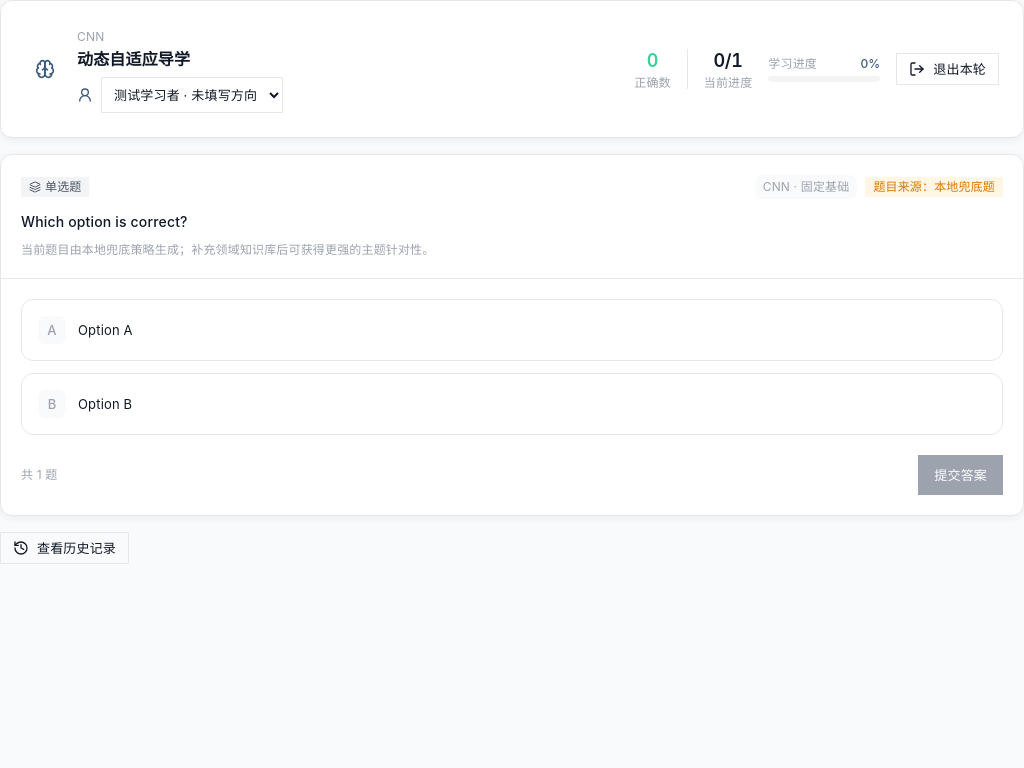
Test: AdaptiveGuidance page › deletes a single history record and keeps the history panel bounded
Click the button "查看历史记录": [64, 548] box [0, 532, 129, 564]
(page scrolled)
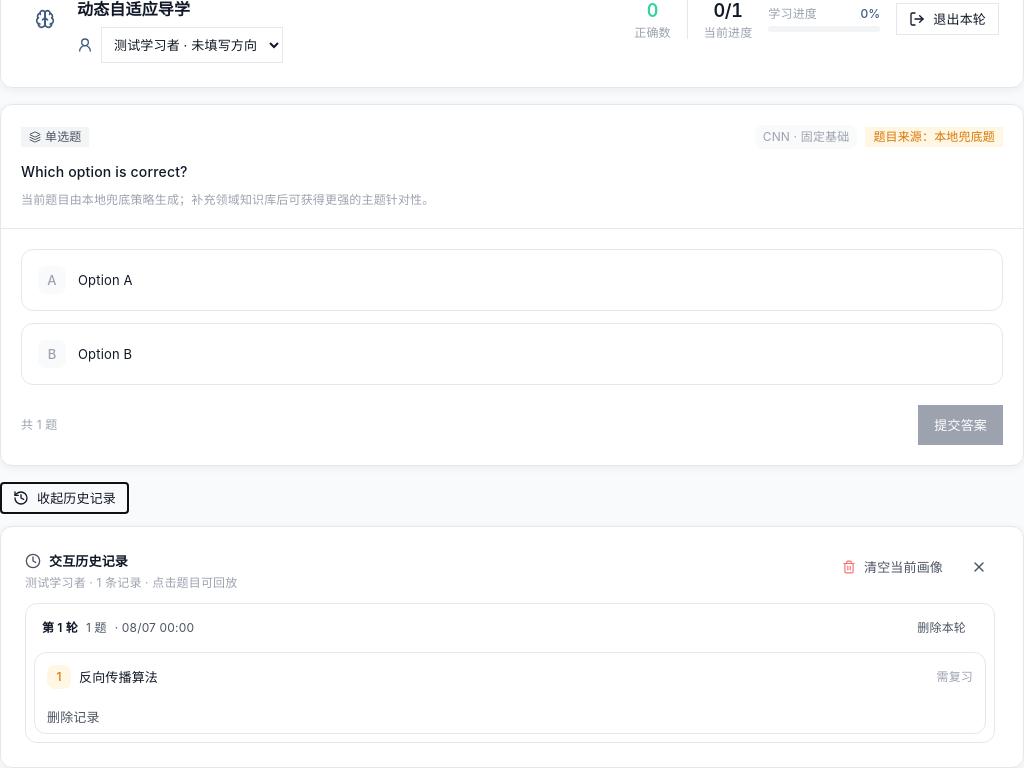
Expected: the text "第 1 轮" is shown, [42, 620, 78, 636]
Expected: the element with class "max-h-" is shown, [25, 603, 999, 743]
Click the button with aria-label "删除第1题记录": [73, 717] box [35, 701, 112, 733]
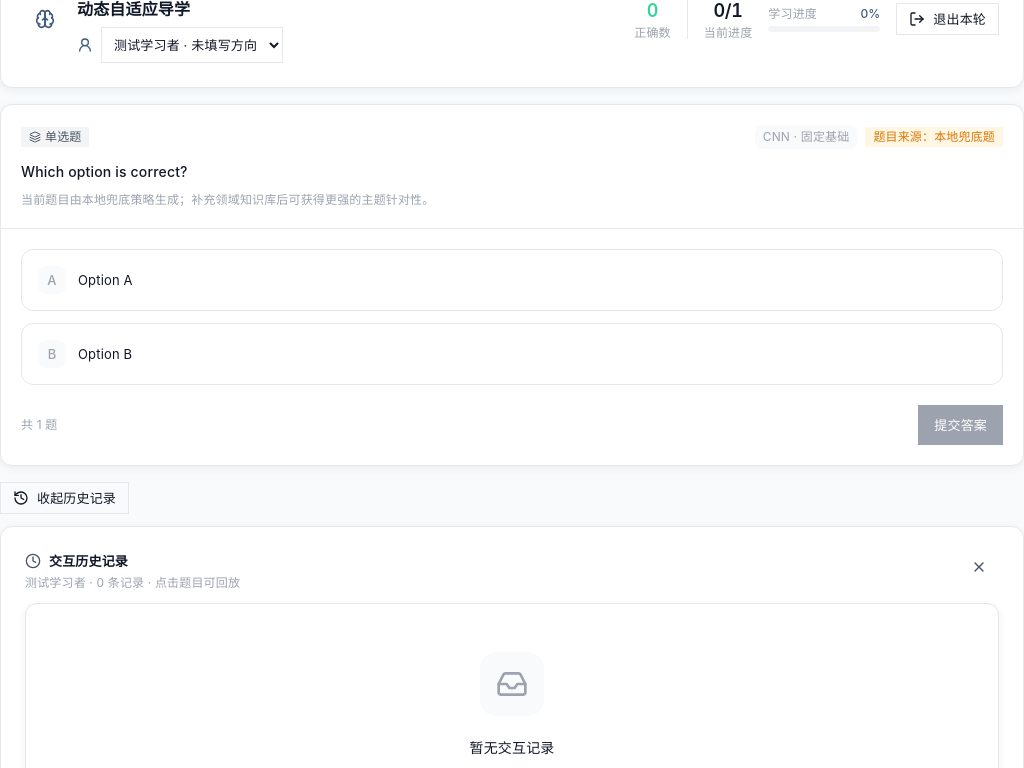
Expected: the heading "暂无交互记录" is shown, [470, 736, 554, 760]
